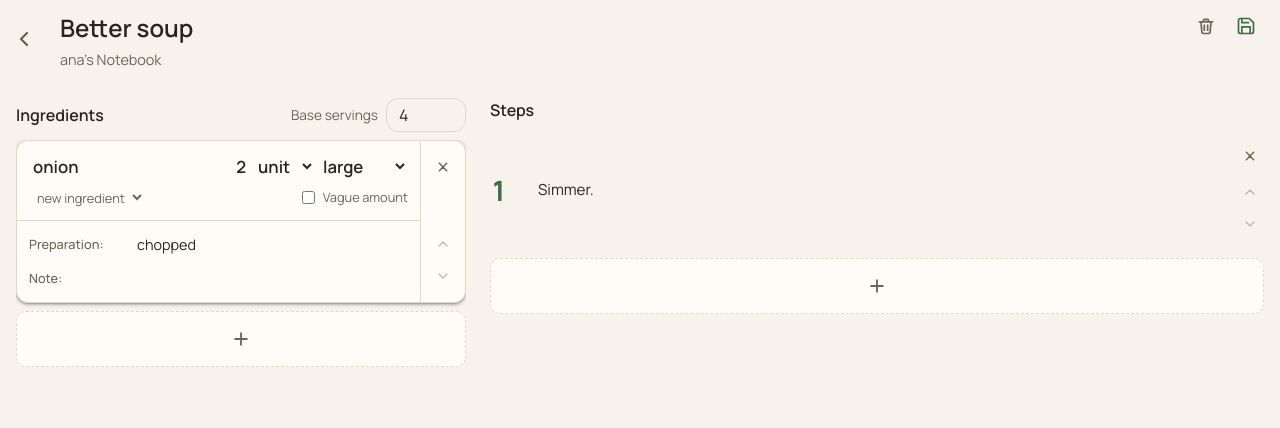
it: RecipeDraftEditor › Save (spec 020) › keeps the draft and shows a message on 404 notebook_not_found
The width and height of the screenshot is (1280, 428).
Step 1. Click the button named "Save recipe" → click(1246, 26), box [1228,8,1264,44]
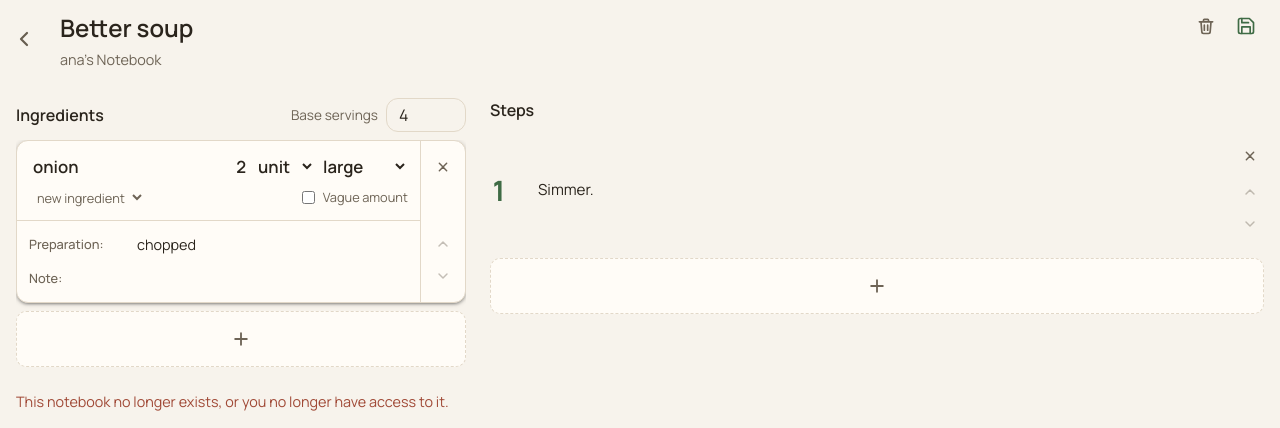
Now the text "This notebook no longer exists, or you no longer have access to it." is shown, box [16,392,448,411]
